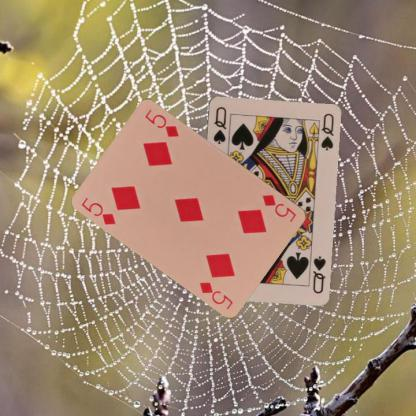5d: (260, 190, 298, 224), (79, 195, 117, 226)
Qs: (310, 253, 327, 295), (210, 104, 227, 145)
